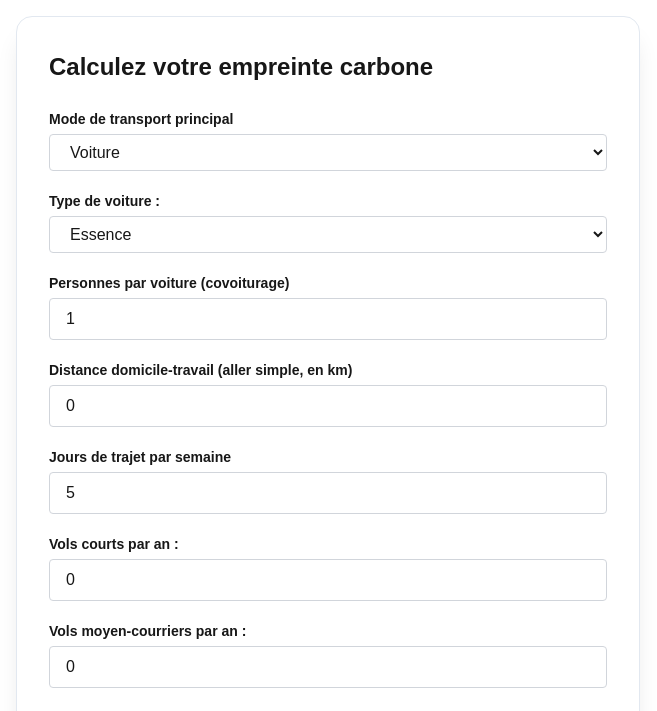
Test case: shows the car-only fields (vehicle type, carpool) only for the car transport mode
The image size is (657, 711).
Check: the dropdown named "carType" is shown, box [49,216,607,253]
Check: the number field named "carpoolSize" is shown, box [49,298,607,340]
Select "Bus" in the dropdown named "transportMode" at (328, 152), box [49,134,607,171]
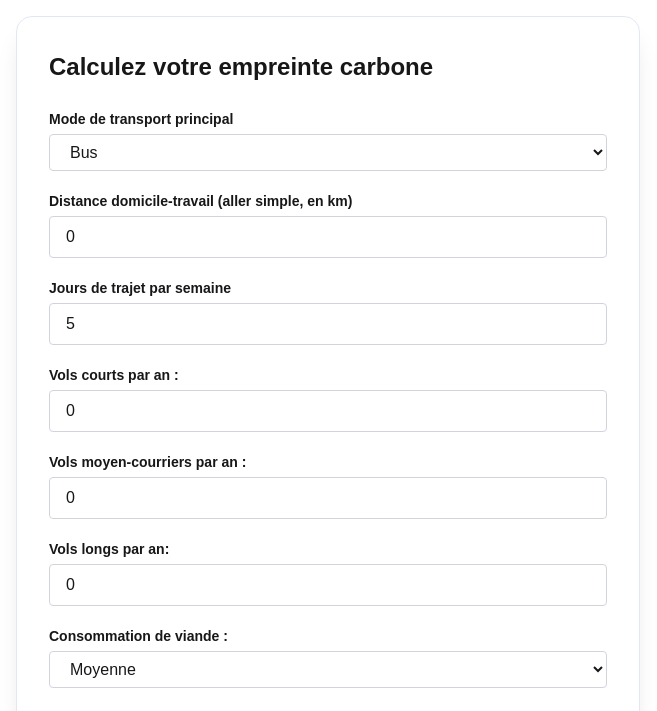
Check: the label named "carType" is gone
Check: the label named "carpoolSize" is gone
Note: switching back brings them back
Select "Voiture" in the dropdown named "transportMode" at (328, 152), box [49,134,607,171]
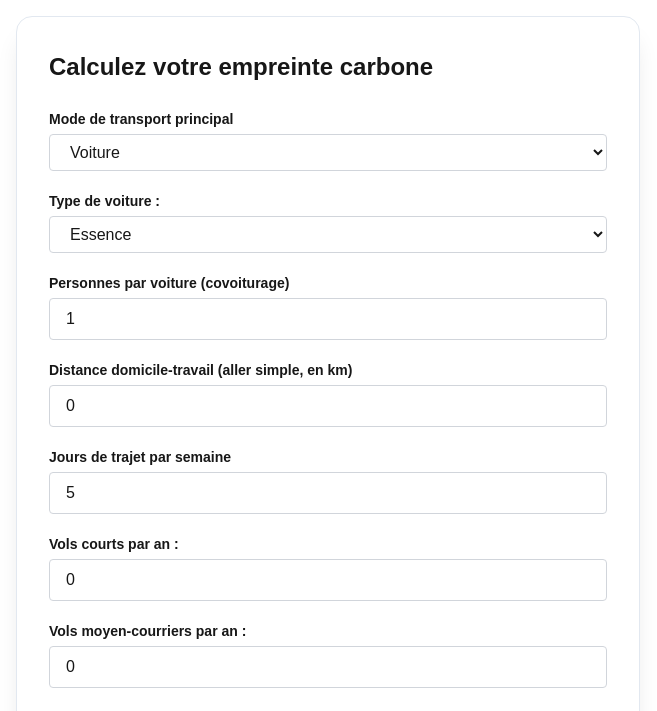
Check: the dropdown named "carType" is shown, box [49,216,607,253]
